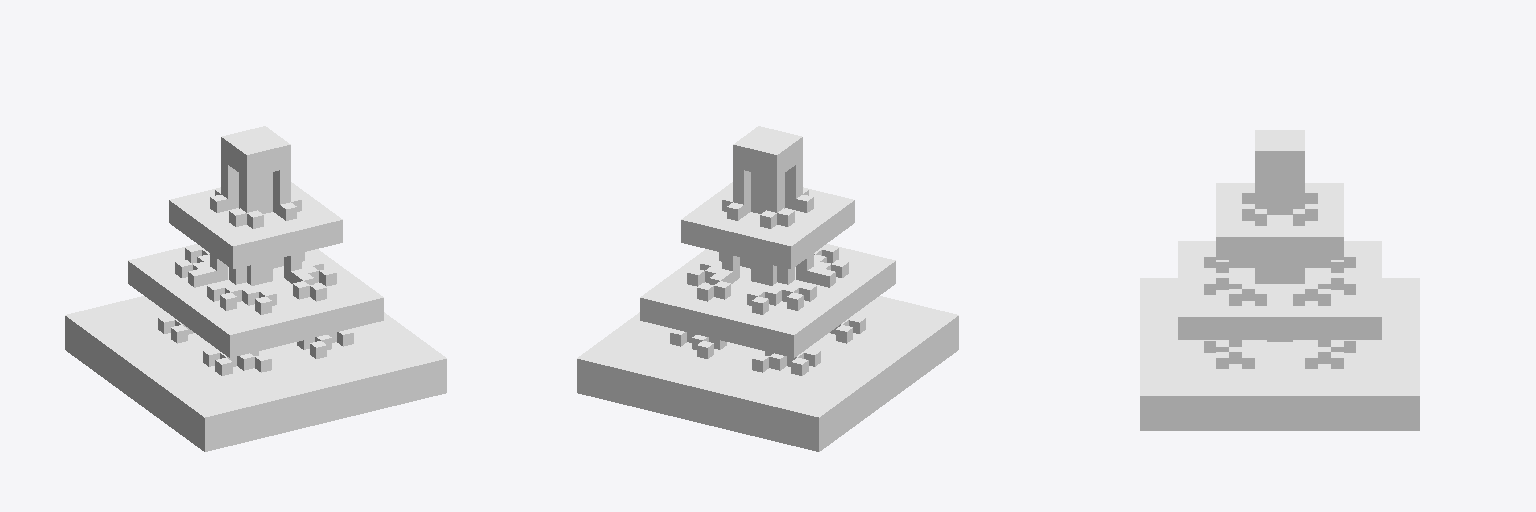
The model's file is Waterfountain.obj.
3 renders of one model, left to right at view 1: azimuth 30°, elevation 25°; view 2: azimuth 150°, elevation 25°; view 3: azimuth 270°, elevation 25°, orthographic.
Parts seen in each view (by area): view 1: object 1; view 2: object 1; view 3: object 1.
Part boxes in pixels (left/top/right/bottom): object 1: left=65, top=126, right=446, bottom=451; object 1: left=577, top=126, right=958, bottom=451; object 1: left=1140, top=130, right=1419, bottom=430.
Size of the model in its own units: 2.2 by 2 by 2.2.